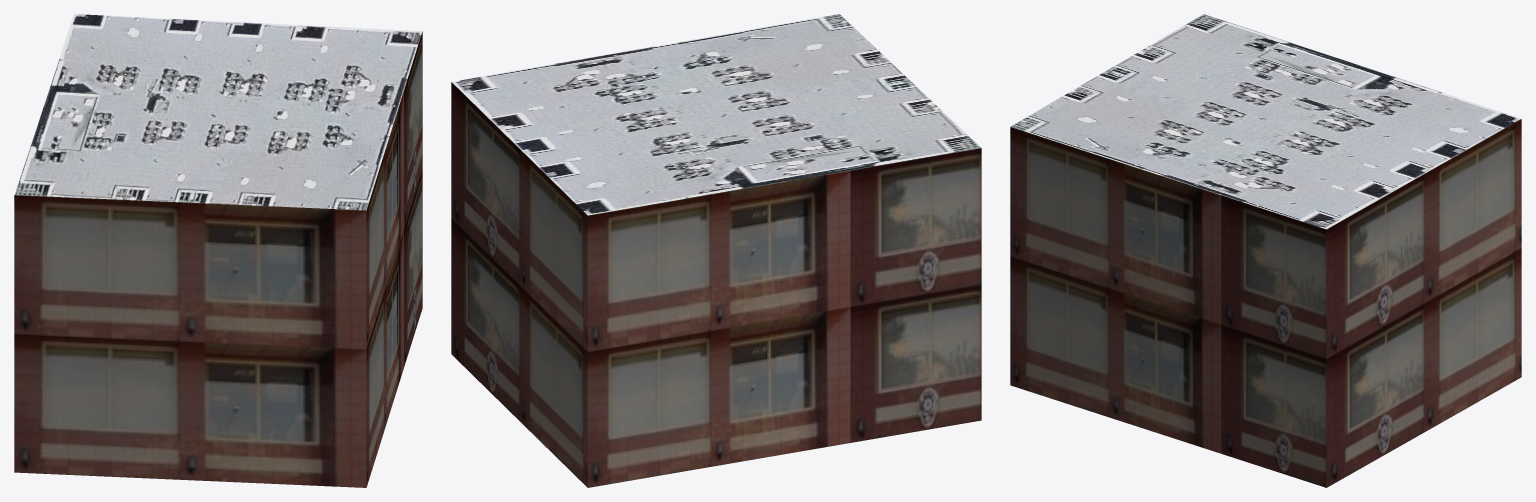
The model's file is ResTex__3810.fbx.
3 renders of one model, left to right at view 1: azimuth 30°, elevation 25°; view 2: azimuth 150°, elevation 25°; view 3: azimuth 270°, elevation 25°, orthographic. The views are drawn at different scales.
Parts seen in each view (by area): view 1: CityEngineMaterial_13_m, CityEngineMaterial_m; view 2: CityEngineMaterial_13_m, CityEngineMaterial_m; view 3: CityEngineMaterial_13_m, CityEngineMaterial_m.
Part boxes in pixels (x1,y1,x2,y2): CityEngineMaterial_13_m: [14, 31, 422, 487]; CityEngineMaterial_m: [14, 14, 422, 210]; CityEngineMaterial_13_m: [451, 82, 981, 487]; CityEngineMaterial_m: [452, 14, 980, 215]; CityEngineMaterial_13_m: [1010, 119, 1521, 487]; CityEngineMaterial_m: [1010, 14, 1521, 229].
Bounding box in the file's own units: 10.72 × 6 × 10.76.
Materials: 2 (2 with a texture image).
